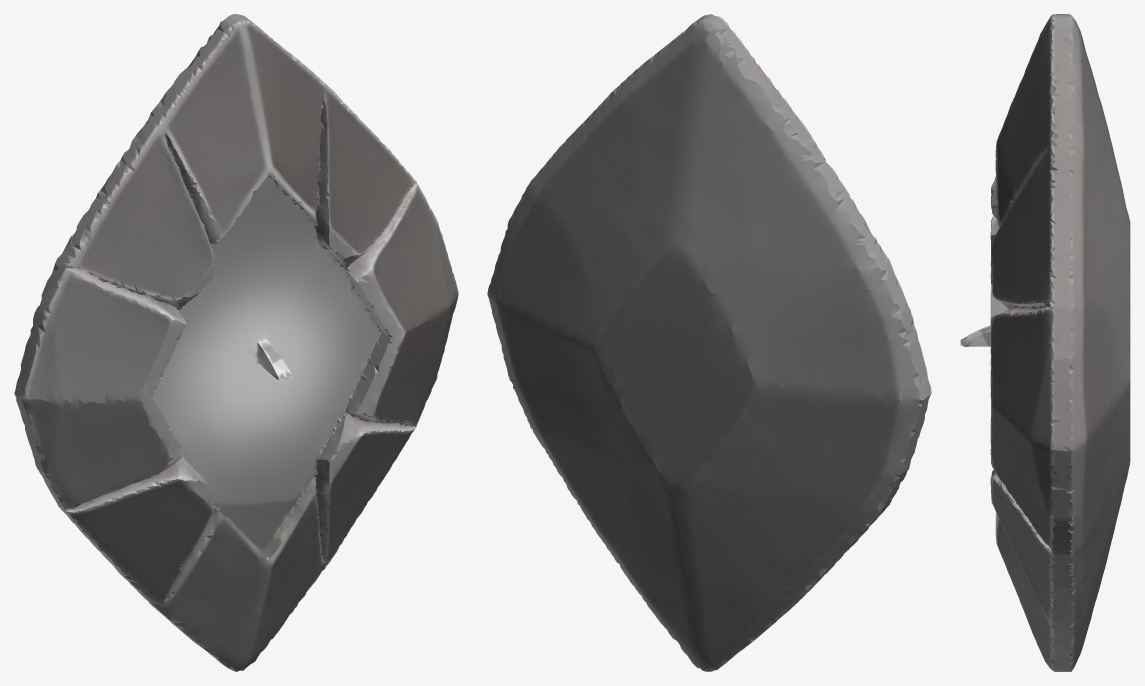
File: core_rock.glb
The picture shows the model from 3 angles, left to right: view 1: azimuth 30°, elevation 25°; view 2: azimuth 150°, elevation 25°; view 3: azimuth 270°, elevation 25°; orthographic projection.
Visible parts, largest first — view 1: core_rock; view 2: core_rock; view 3: core_rock.
Part boxes in pixels (x1,y1,x2,y2): core_rock: [14, 14, 458, 671]; core_rock: [487, 14, 931, 671]; core_rock: [960, 14, 1130, 671].
Bounding box in the file's own units: 0.7018 × 1 × 0.2356.
1 material, 1 textured.
